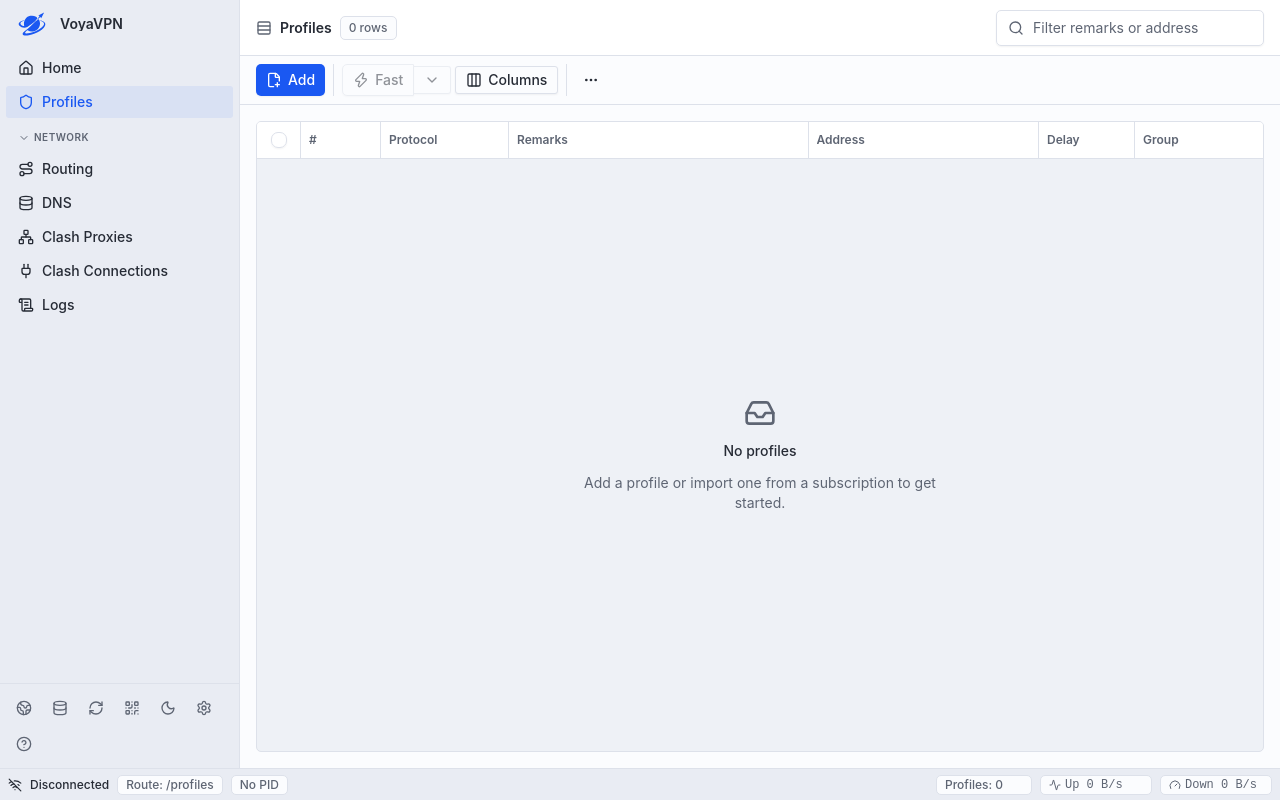
Test: App › manual refresh seeds Clash Connections snapshots without clearing stale monitor status
Click the tab "Clash Connections".
click(120, 271)  # box [6,255,233,287]
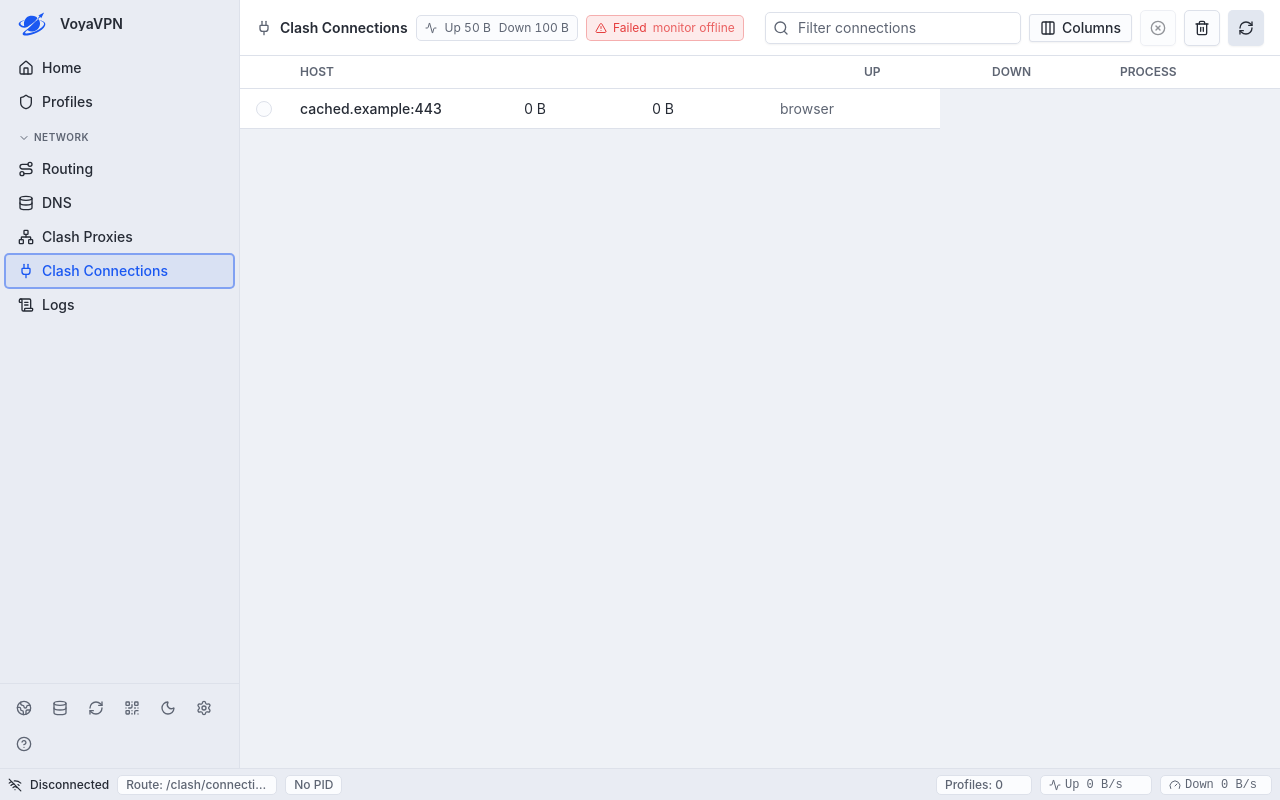
Check: the text "cached.example:443" is shown, box [300,100,442,116]
Click the button named "Refresh".
click(1246, 28)  # box [1228,10,1264,46]
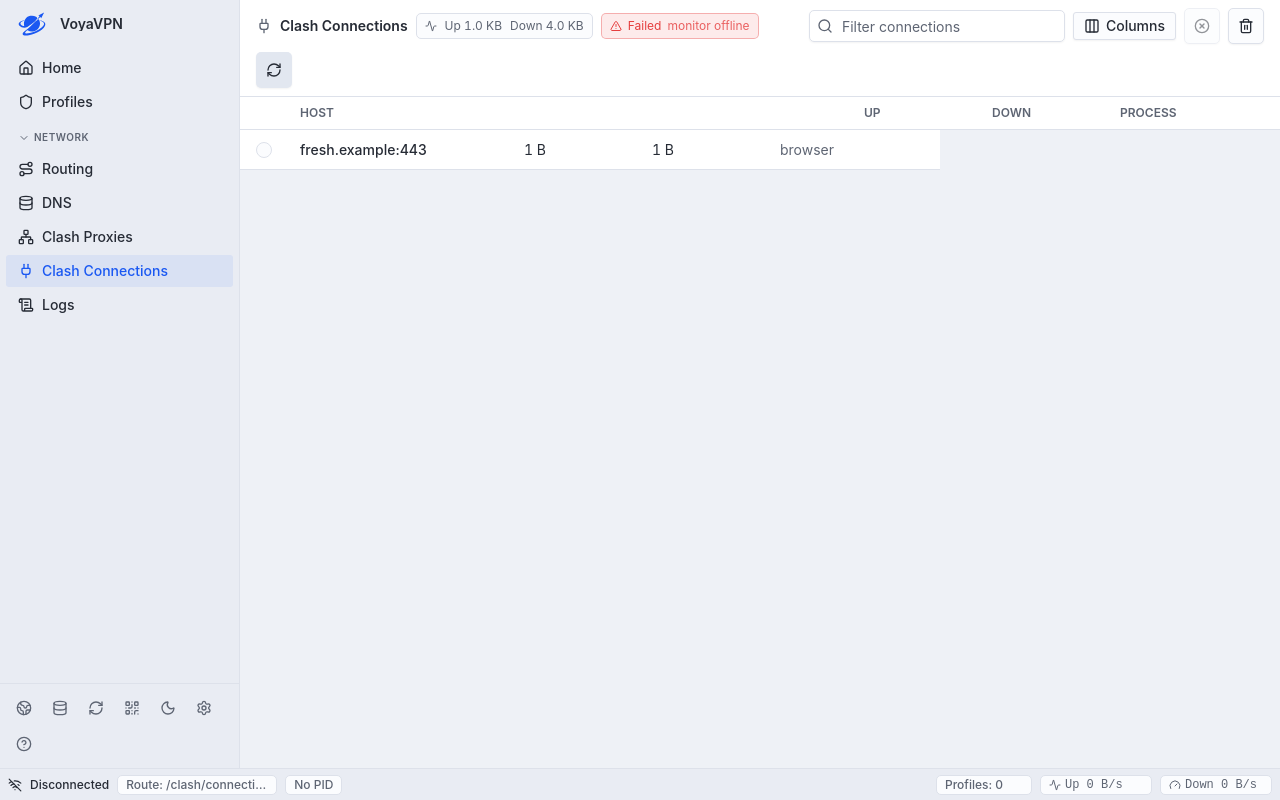
Check: the message named "Failed: monitor offline" is shown, box [601,13,758,39]
Check: the text "fresh.example:443" is shown, box [300,140,427,158]
